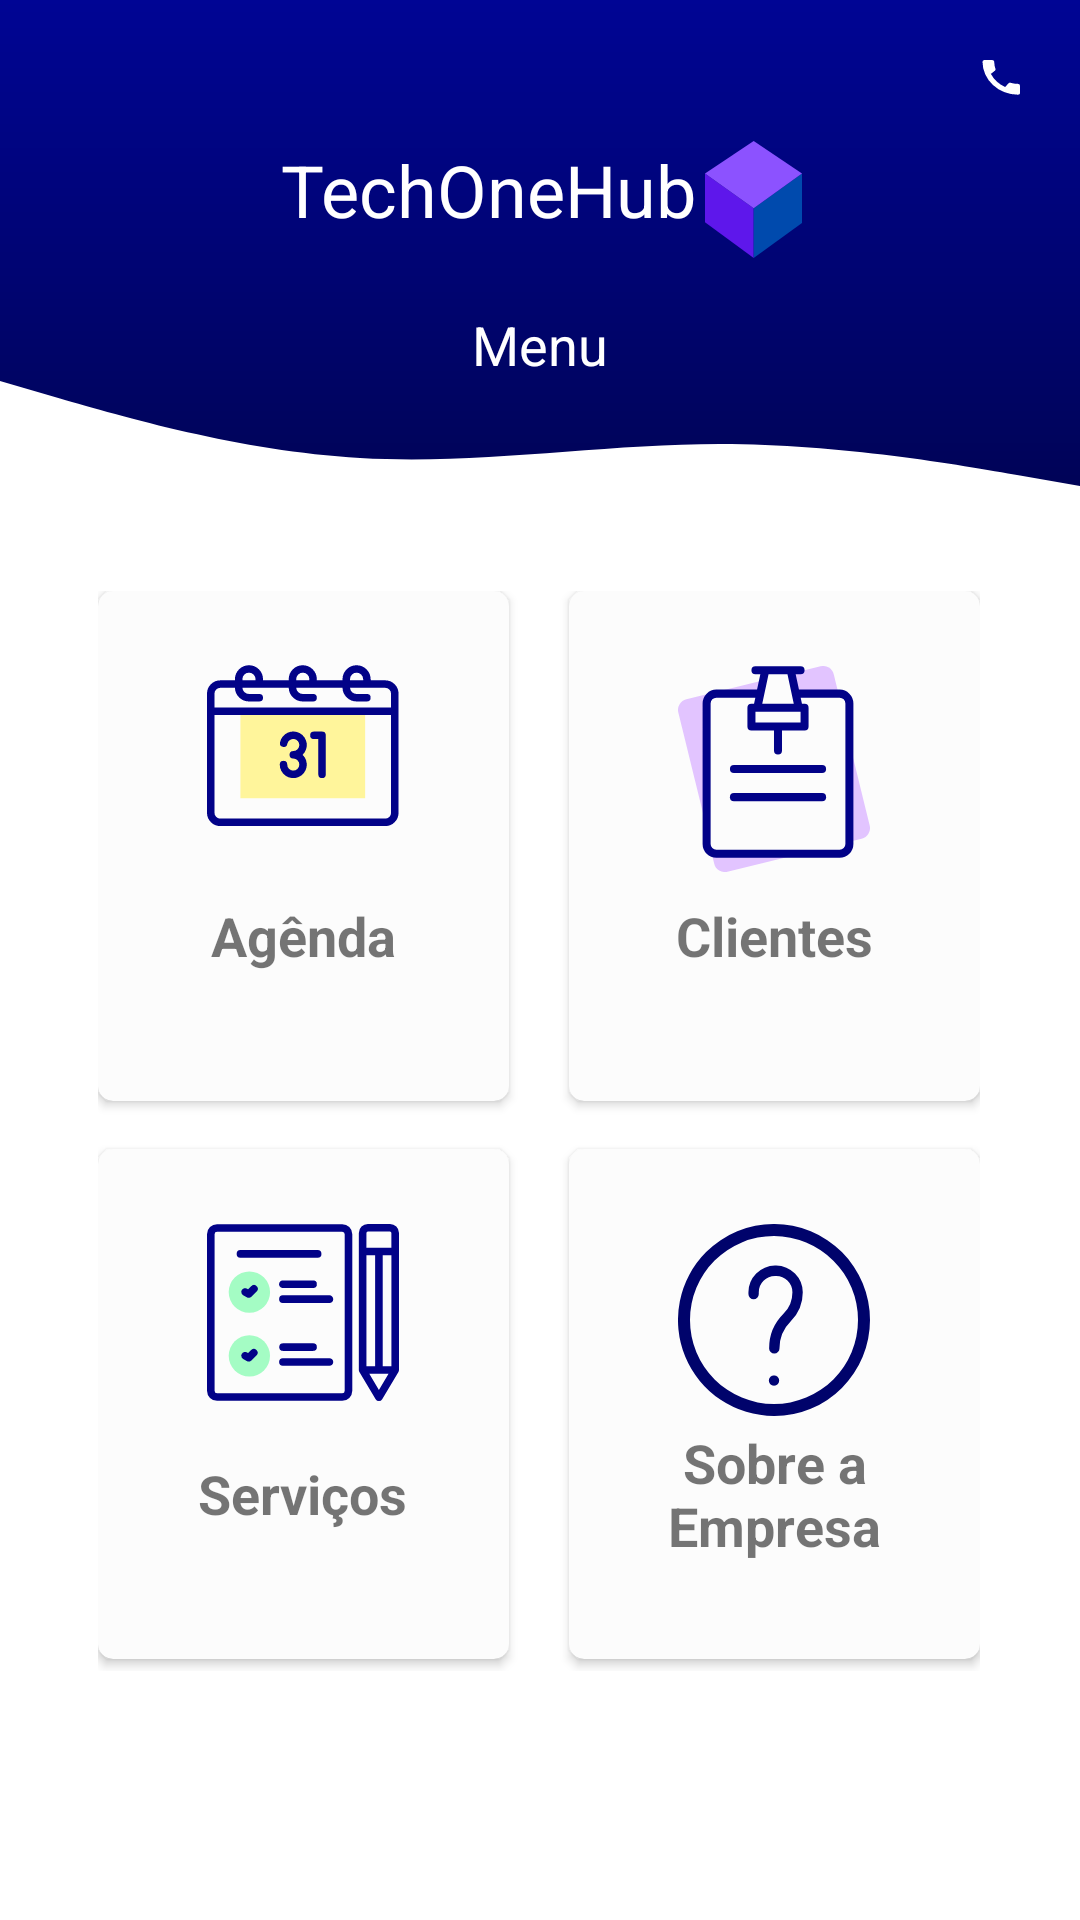

Where icons sit on this 1080 x 1920 app screen, as (x1, y1, x2, y2):
agenda: (207, 665, 399, 826)
call: (982, 60, 1020, 95)
cuboo: (705, 141, 802, 258)
servico: (207, 1224, 399, 1401)
